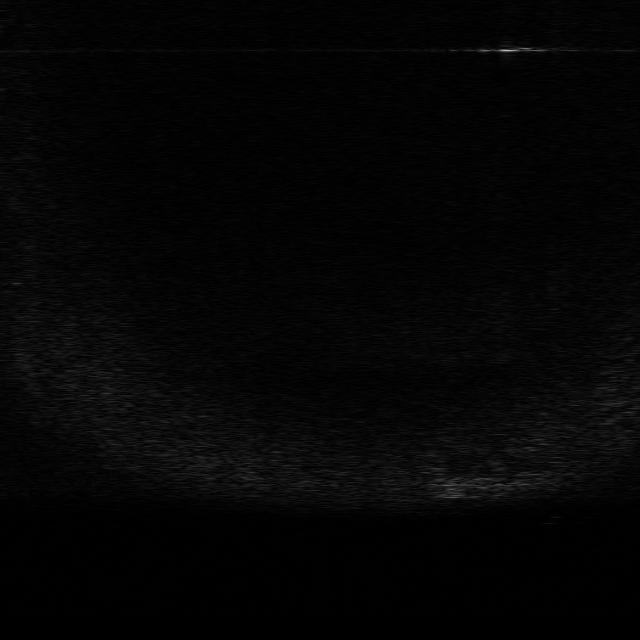plane: (430, 472, 555, 502)
